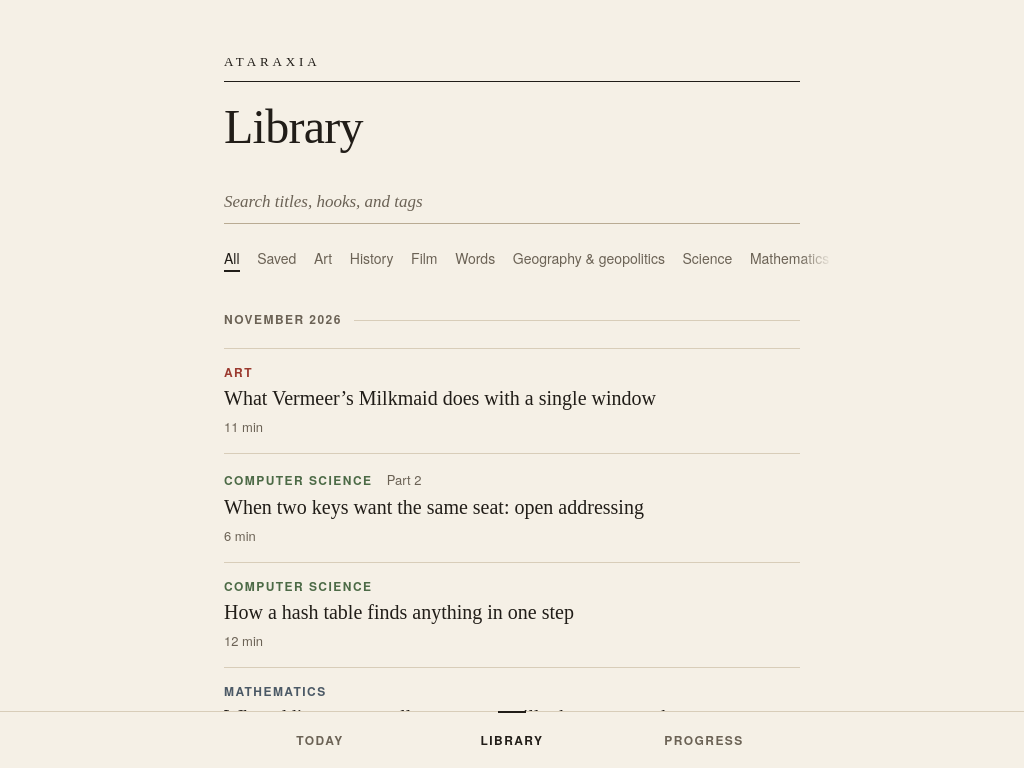
Test: Library › says when nothing matches
Expected: the heading "November 2026" is shown, [224,310,342,328]
Type "zebra" into the search field at (512, 202), box [224,180,800,224]
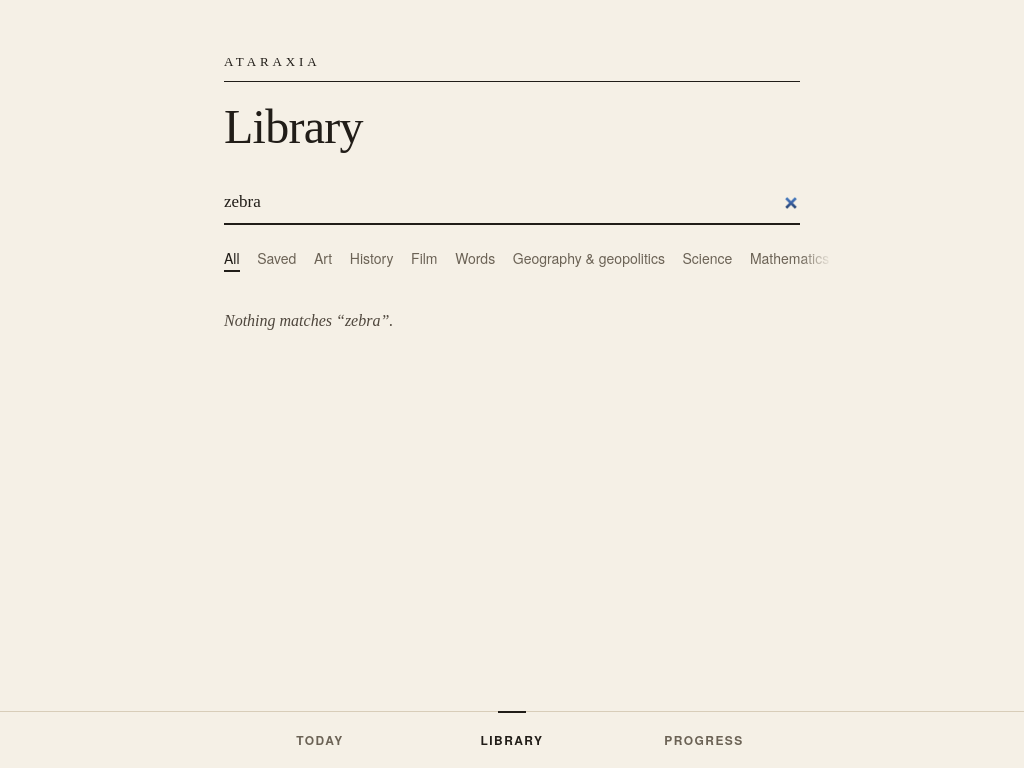
Expected: the text "Nothing matches “zebra”." is shown, [224,312,393,329]
